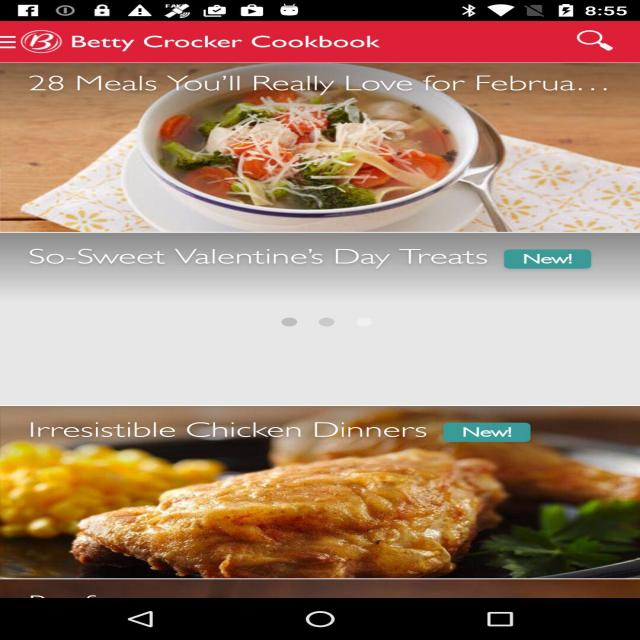button: (543, 27, 633, 64)
icon: (4, 244, 640, 411), (8, 68, 640, 236), (8, 414, 640, 582), (0, 26, 392, 55)
text: (17, 61, 625, 98), (21, 242, 606, 272), (21, 416, 572, 443)
